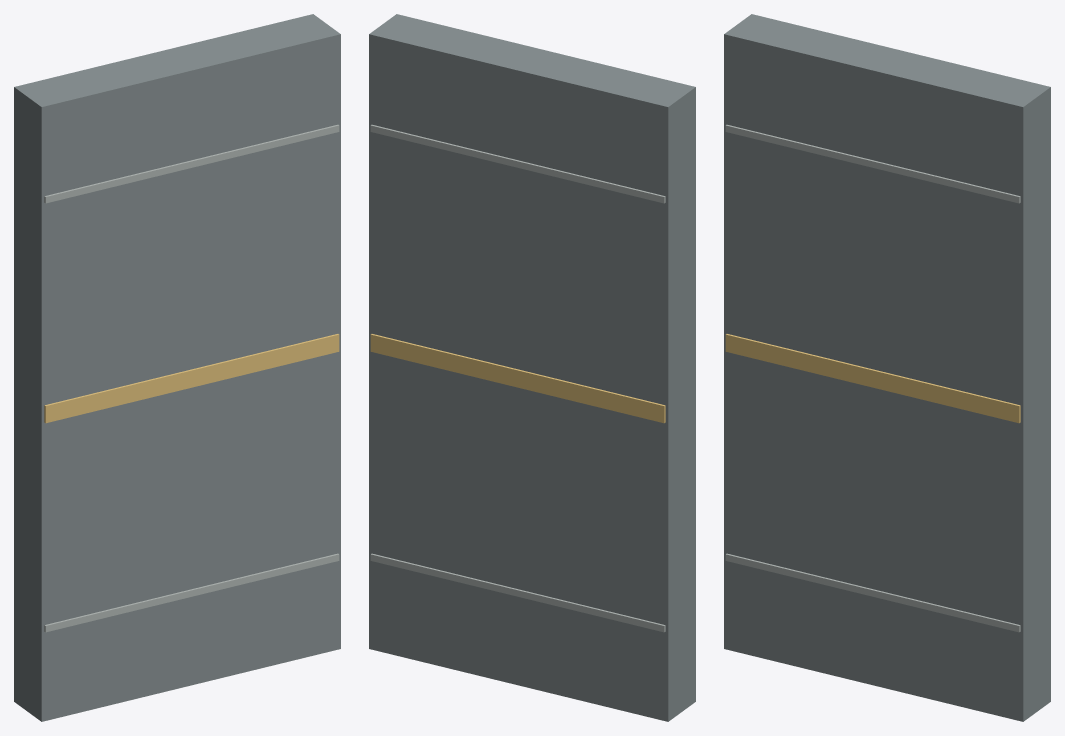
File: a01_door_leaf.glb
3 views of the same model, side by side, from view 1: azimuth 30°, elevation 25°; view 2: azimuth 150°, elevation 25°; view 3: azimuth 330°, elevation 25° (orthographic).
Parts seen in each view (by area): view 1: a01_door_leaf; view 2: a01_door_leaf; view 3: a01_door_leaf.
Boxes of the visible parts, box(x1,y1,x2,y2) form: a01_door_leaf: box(14, 14, 340, 721); a01_door_leaf: box(369, 14, 695, 721); a01_door_leaf: box(724, 14, 1050, 721).
Size of the model in its own units: 2.19 by 4.3 by 0.38.
